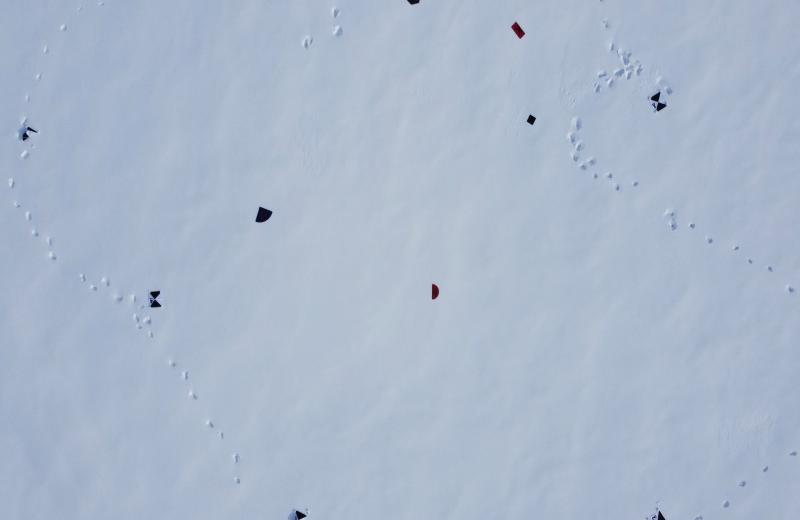Quarter Circle: (253, 204, 274, 224)
Rectangle: (511, 20, 526, 40)
Semi Circle: (430, 284, 441, 301)
Square: (525, 112, 537, 128)
